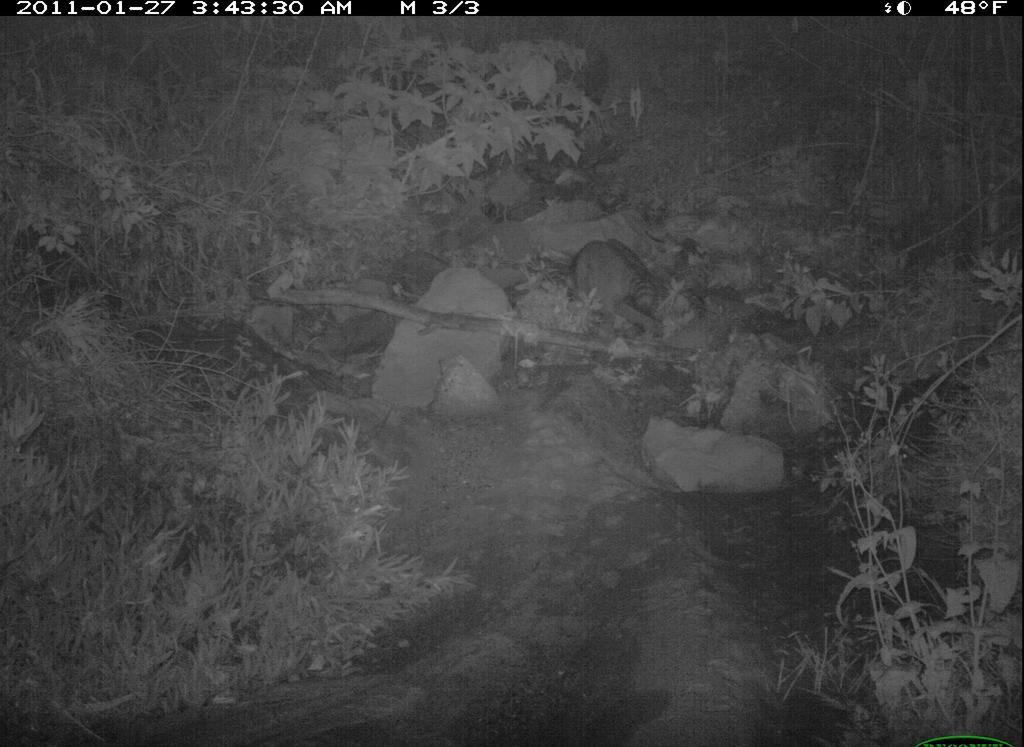raccoon: (562, 231, 670, 337)
